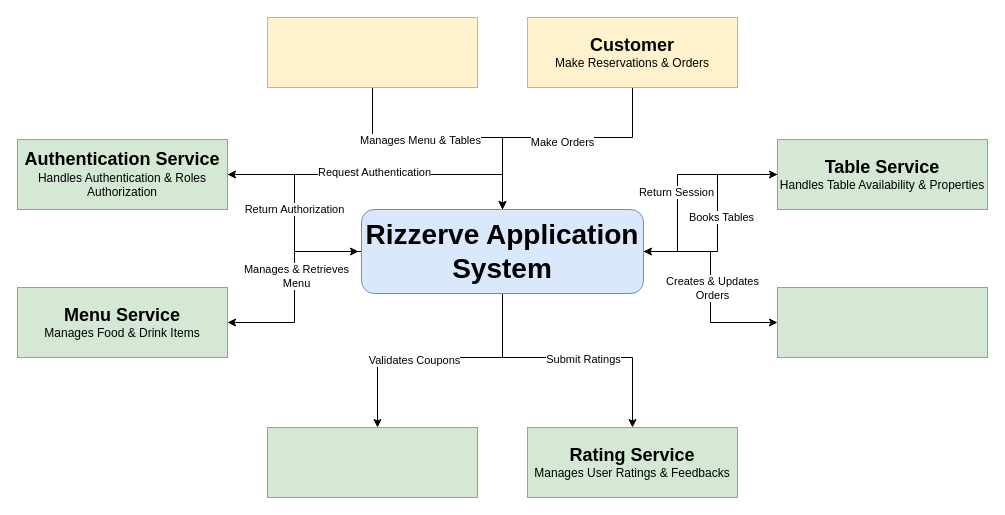
Image size: 1005x515. Some labels were removed from this diagram. Each missing label, with the box of its shape:
Administrator Manages Menu & Tables: (266, 16, 478, 88)
Coupon Service Handles Discounts & Promo Codes: (266, 426, 478, 498)
Order Service Manages Orders & Checkouts: (776, 286, 988, 358)
